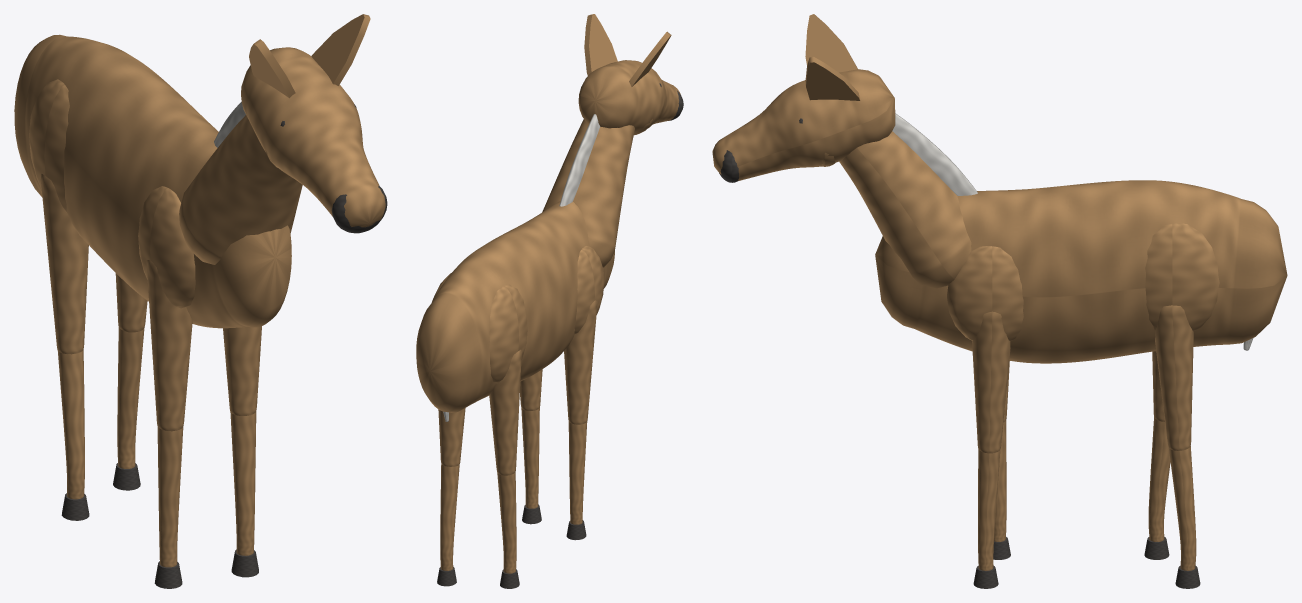
Rendered from farm-and-working-animals-hd-foal-chestnut-cf645c41__29180.glb.
The picture shows the model from 3 angles, left to right: view 1: azimuth 30°, elevation 25°; view 2: azimuth 150°, elevation 25°; view 3: azimuth 270°, elevation 25°; orthographic projection. The views are drawn at different scales.
Parts seen in each view (by area): view 1: foal-chestnut; view 2: foal-chestnut; view 3: foal-chestnut.
Boxes of the visible parts, left/top/right/bottom form: foal-chestnut: left=14, top=14, right=387, bottom=588; foal-chestnut: left=416, top=14, right=683, bottom=588; foal-chestnut: left=712, top=14, right=1287, bottom=588.
Size of the model in its own units: 0.2855 by 1.48 by 1.44.
Materials: 3 (3 with a texture image).
